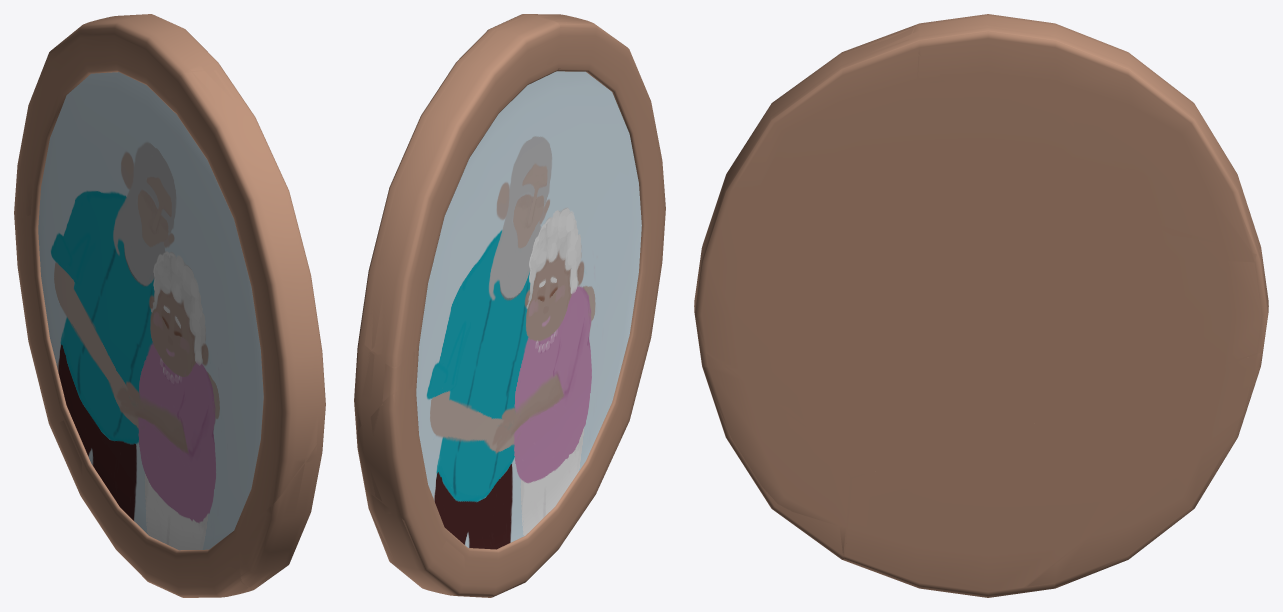
File: Wife's Picture.fbx
3 views of the same model, side by side, from view 1: azimuth 30°, elevation 25°; view 2: azimuth 150°, elevation 25°; view 3: azimuth 270°, elevation 25° (orthographic). The views are drawn at different scales.
Visible parts, largest first — view 1: Wife_picture_frame, Picture_frame.001_cell.002, Picture_frame.001_cell.006, Picture_frame.001_cell.004, Picture_frame.001_cell.001; view 2: Wife_picture_frame, Picture_frame.001_cell.004, Picture_frame.001_cell.003, Picture_frame.001_cell.002, Picture_frame.001_cell.005, Picture_frame.001_cell.001, Picture_frame.001_cell.006; view 3: Wife_picture_frame, Picture_frame.001_cell.001, Picture_frame.001_cell.004, Picture_frame.001_cell.002, Picture_frame.001_cell.006, Picture_frame.001_cell.003, Picture_frame.001_cell.005.
Boxes of the visible parts, x1,y1,x2,y2 form: Wife_picture_frame: (14,14,325,597); Picture_frame.001_cell.002: (164,70,319,515); Picture_frame.001_cell.006: (239,446,317,587); Picture_frame.001_cell.004: (16,15,210,178); Picture_frame.001_cell.001: (14,202,251,597); Wife_picture_frame: (354,14,665,597); Picture_frame.001_cell.004: (364,15,556,366); Picture_frame.001_cell.003: (366,491,493,596); Picture_frame.001_cell.002: (535,15,663,352); Picture_frame.001_cell.005: (355,349,414,431); Picture_frame.001_cell.001: (356,392,621,595); Picture_frame.001_cell.006: (621,320,653,437); Wife_picture_frame: (694,14,1268,597); Picture_frame.001_cell.001: (843,346,1263,597); Picture_frame.001_cell.004: (910,24,1261,254); Picture_frame.001_cell.002: (694,25,1064,442); Picture_frame.001_cell.006: (703,354,850,554); Picture_frame.001_cell.003: (1027,421,1237,588); Picture_frame.001_cell.005: (831,198,1267,476).
Size of the model in its own units: 12.91 by 165 by 151.
